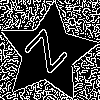Z: (23, 28, 77, 82)
